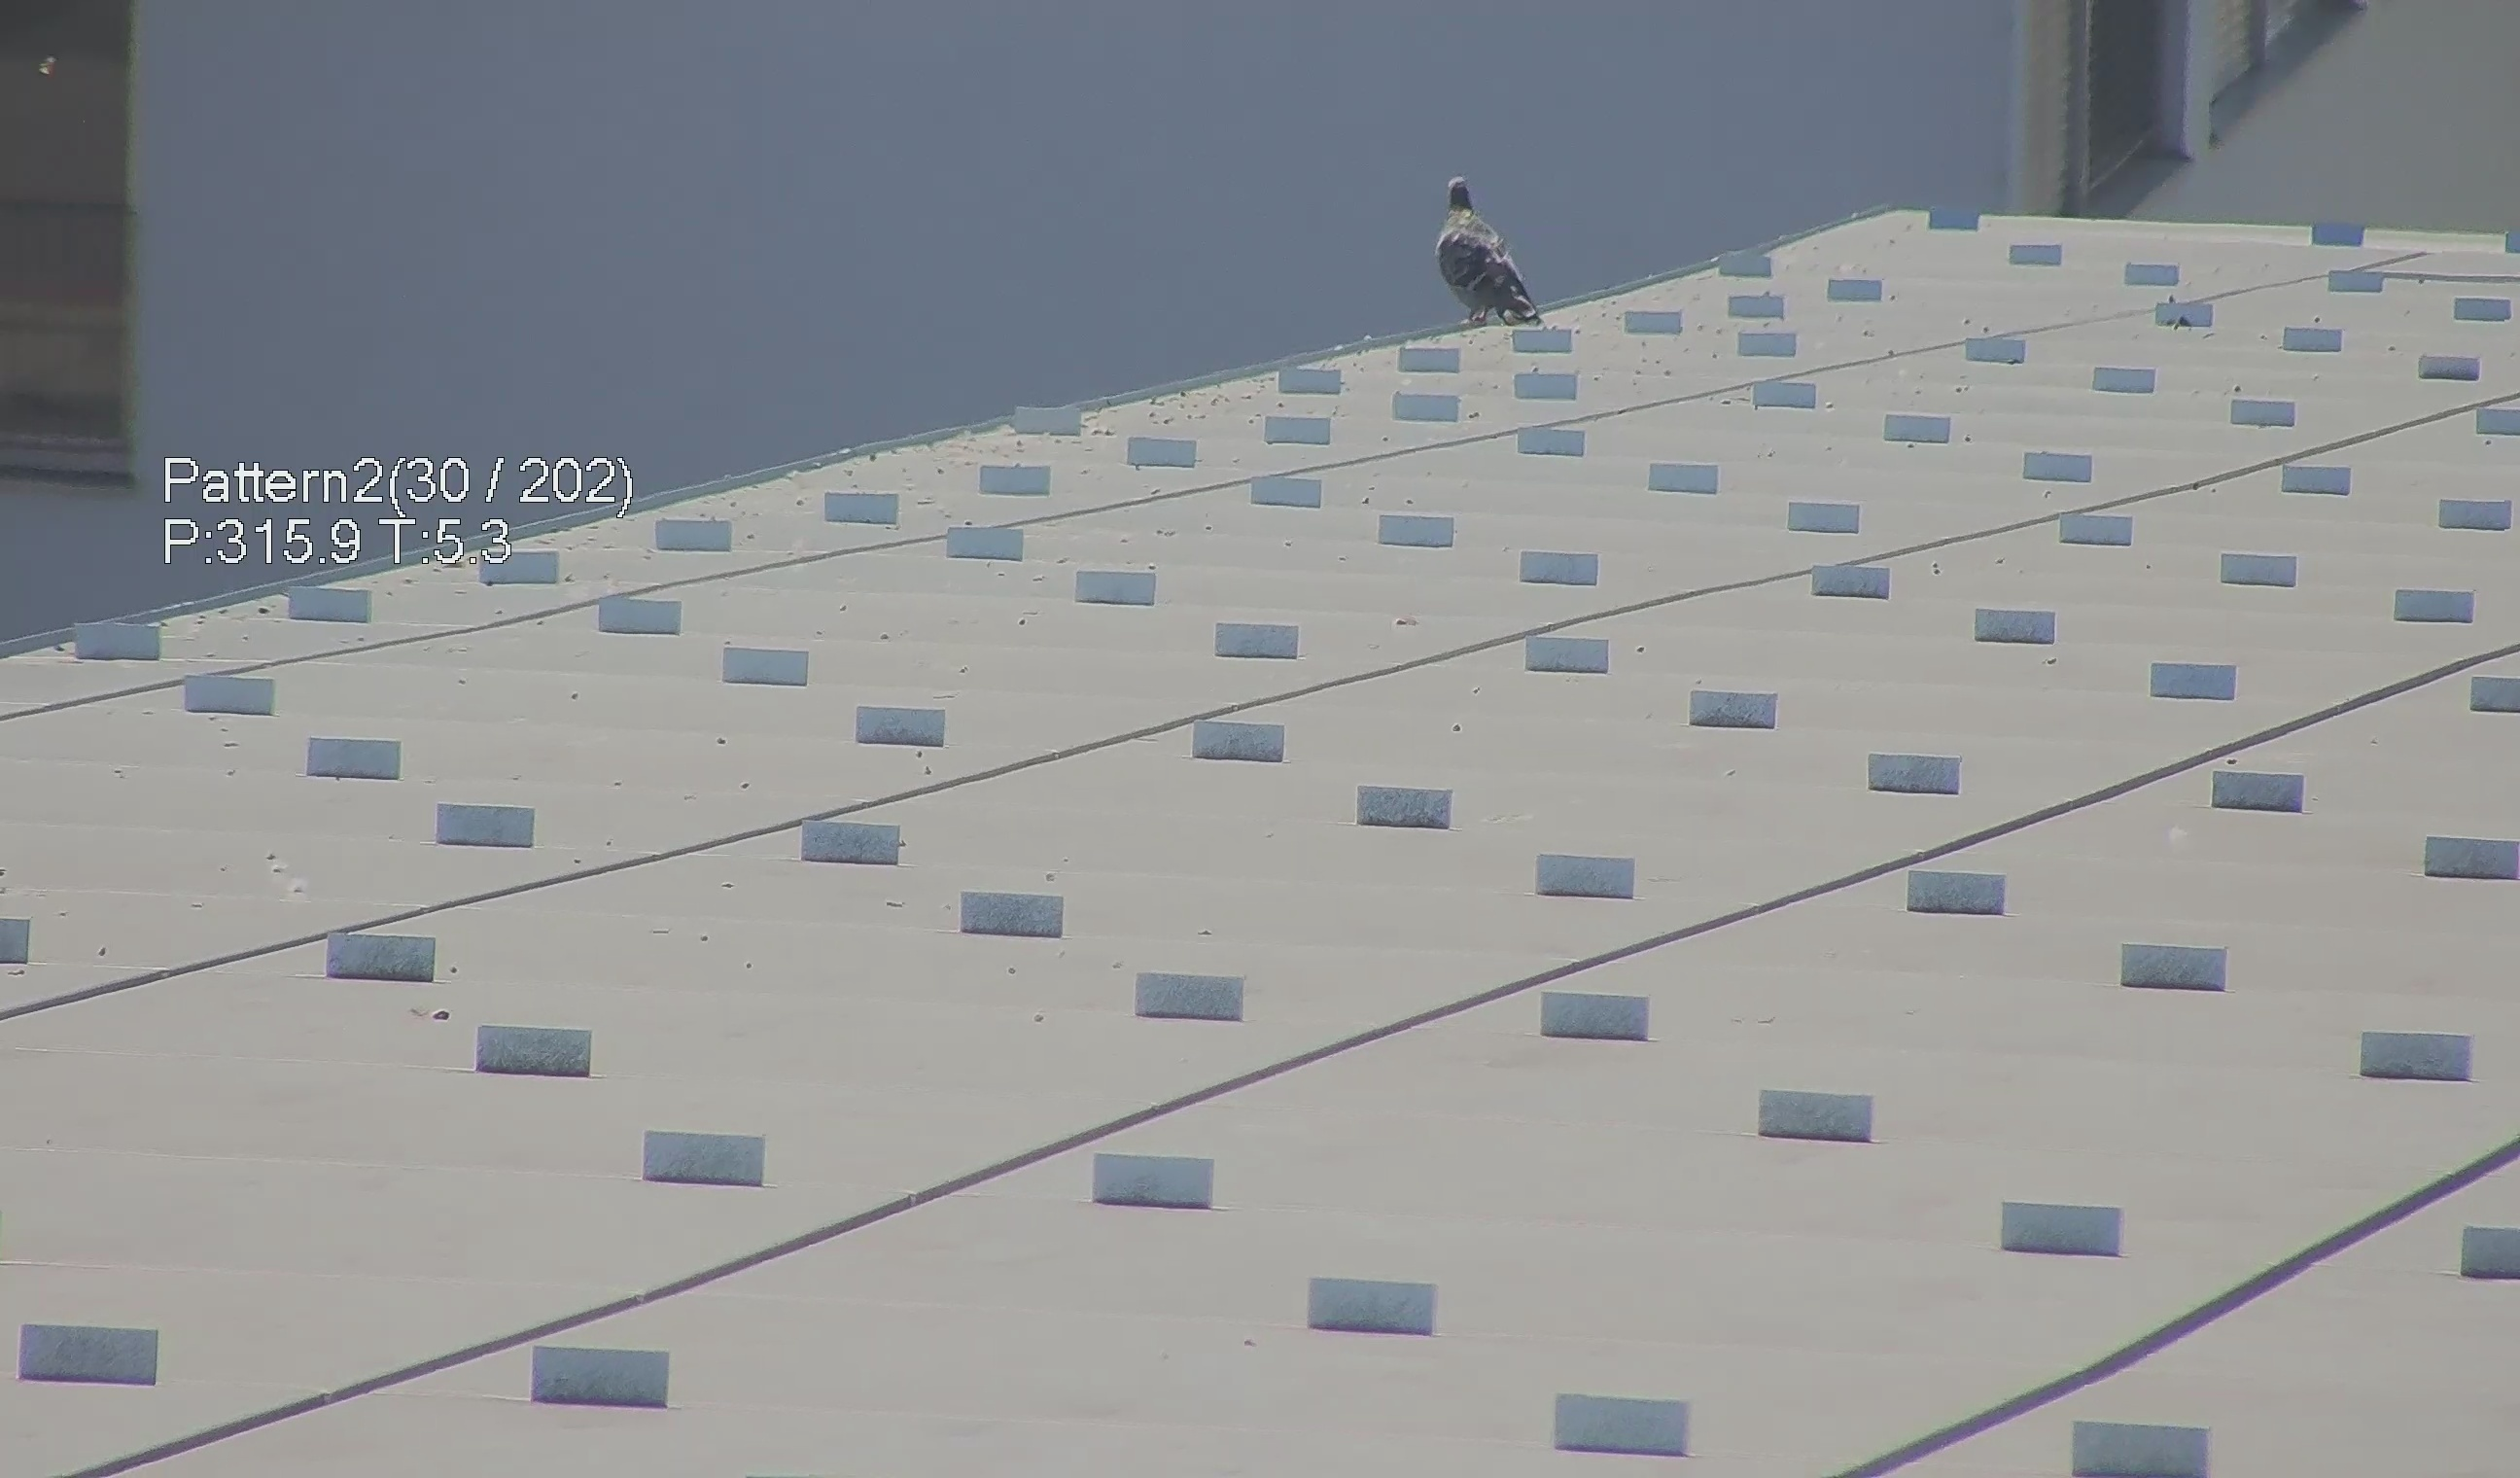Pigeon: (1421, 167, 1555, 334)
